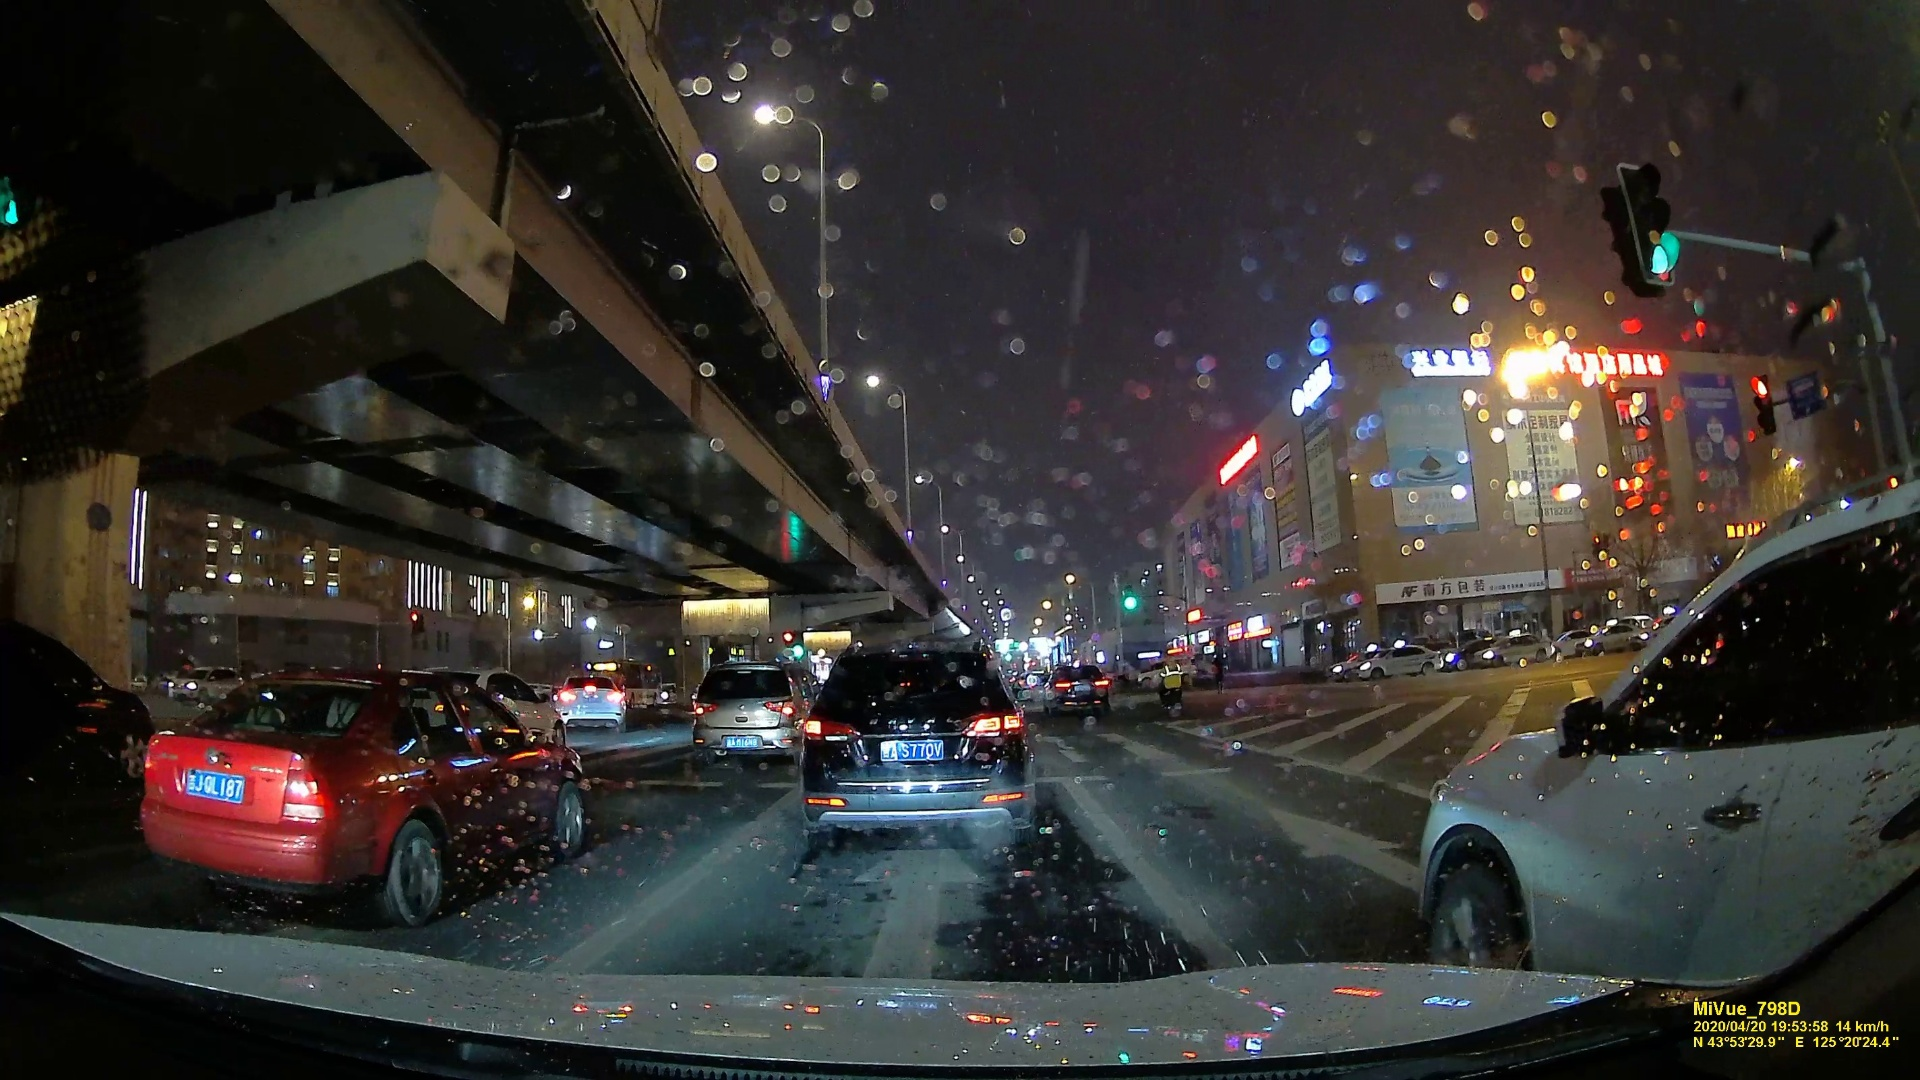person: (1156, 653, 1183, 692), (1211, 651, 1226, 691)
traffic_sign: (1611, 157, 1688, 295)
vehicle: (142, 674, 586, 918), (798, 635, 1036, 859), (689, 662, 809, 765), (1044, 663, 1110, 715), (1352, 644, 1438, 679)
